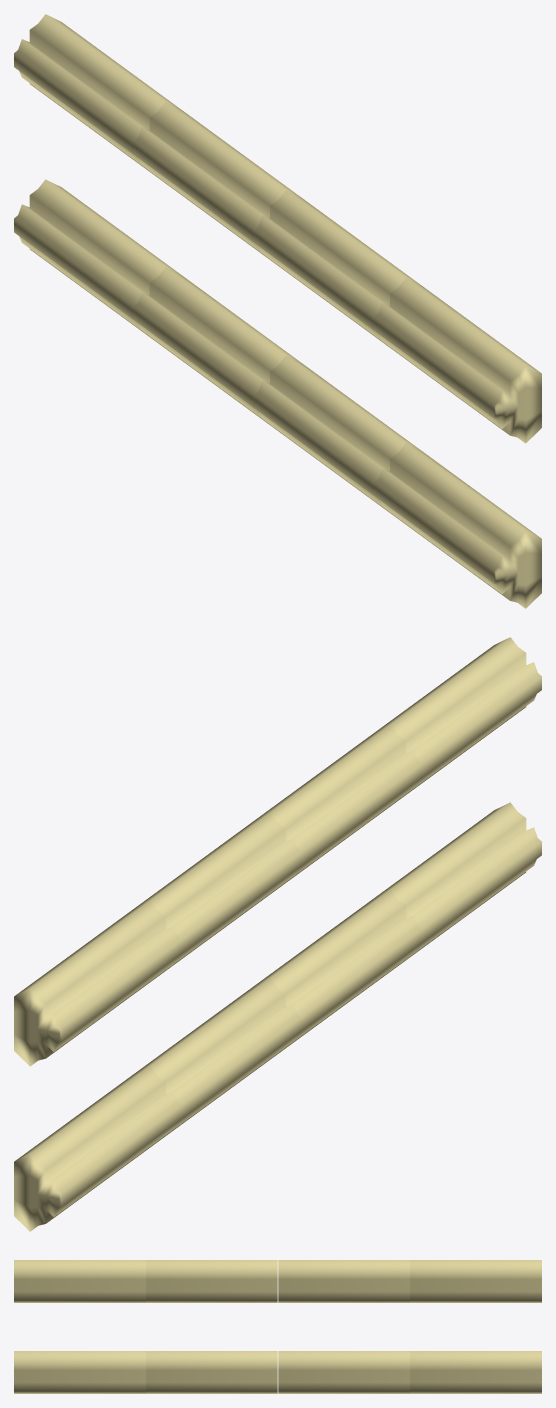
The model's file is Statues_Lign_02A.fbx.
The picture shows the model from 3 angles, top to bottom: view 1: azimuth 30°, elevation 25°; view 2: azimuth 150°, elevation 25°; view 3: azimuth 270°, elevation 25°; orthographic projection. The views are drawn at different scales.
Visible parts, largest first — view 1: Statues_Lign_02A; view 2: Statues_Lign_02A; view 3: Statues_Lign_02A.
Boxes of the visible parts, <box> form: Statues_Lign_02A: <box>14,14,541,608</box>; Statues_Lign_02A: <box>14,637,541,1231</box>; Statues_Lign_02A: <box>14,1260,541,1393</box>.
Size of the model in its own units: 34.45 by 168 by 601.
